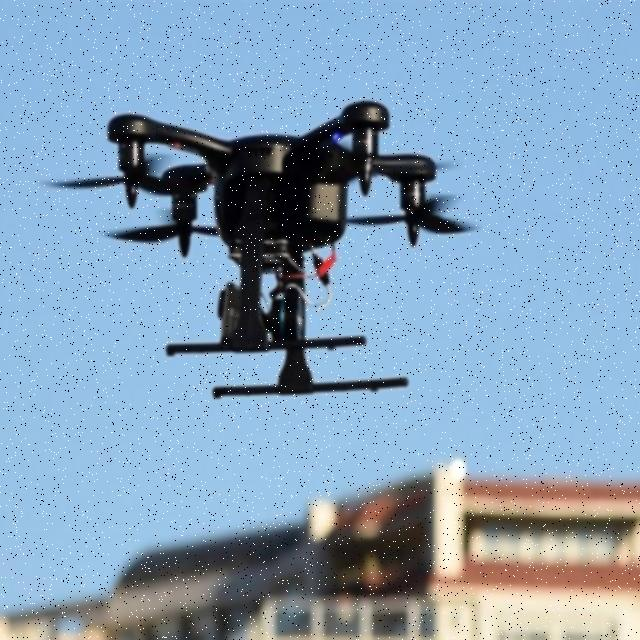UAV: (104, 96, 442, 404)
